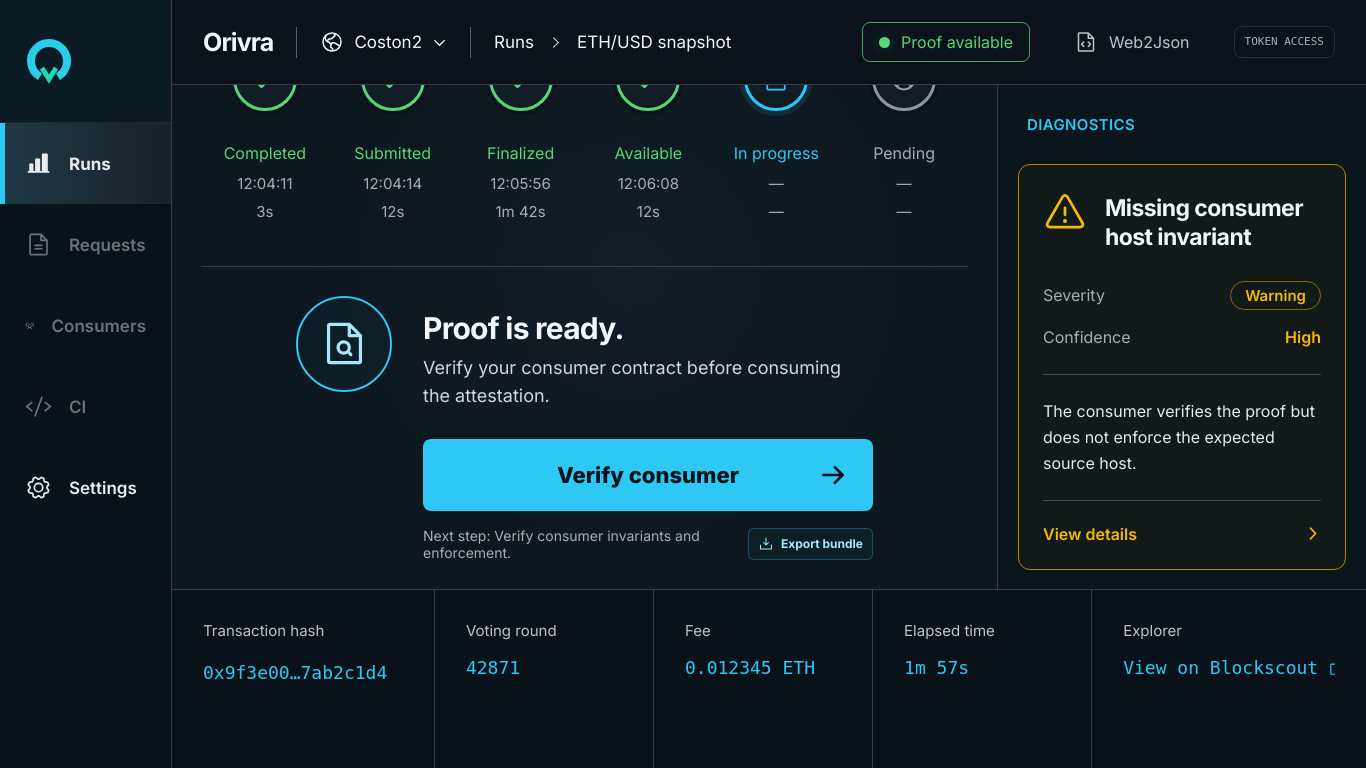
Test: Slice 007 Consumer Lab focus ownership after codegen › retains a focused interactive control inside the dialog
The image size is (1366, 768).
(page scrolled)
Click the button "Verify consumer".
click(648, 475)  # box [423,439,873,511]
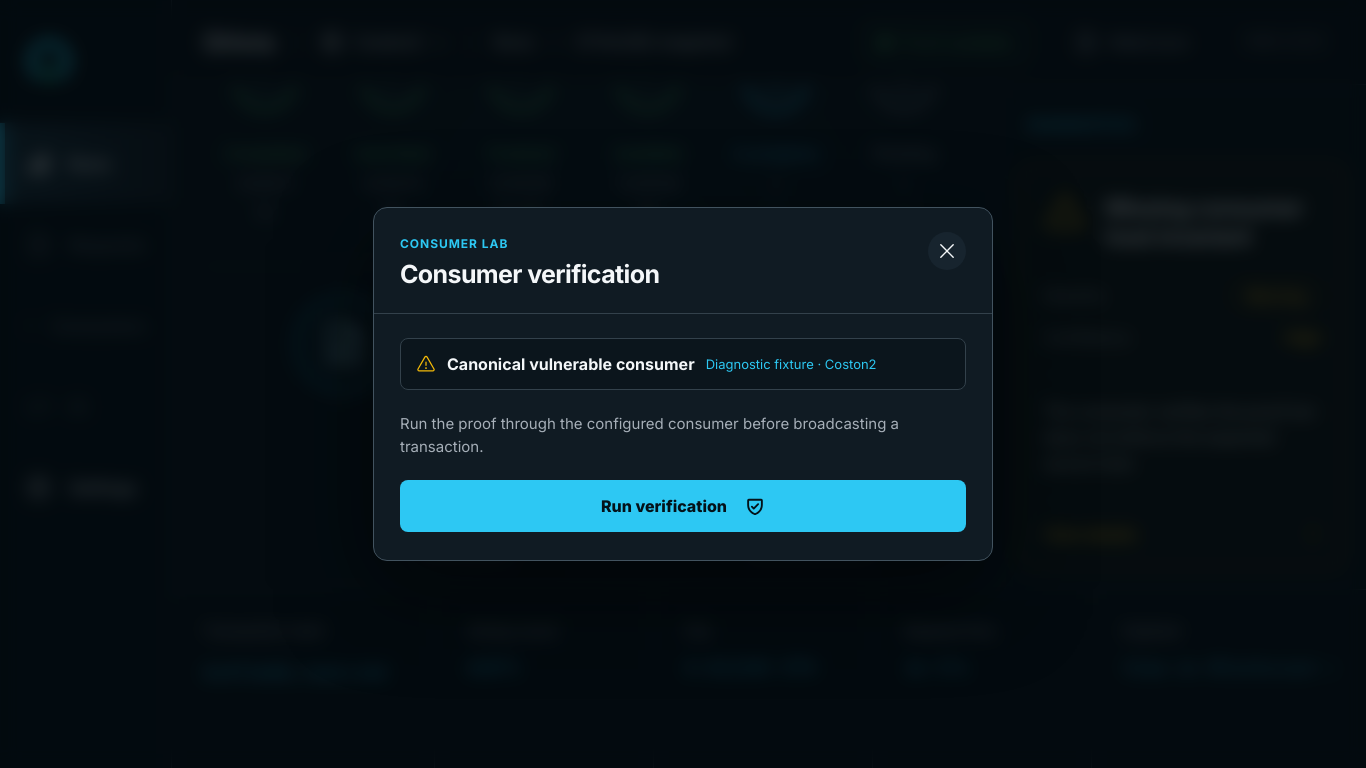
Click the button "Run verification".
click(683, 506)  # box [400,480,966,532]
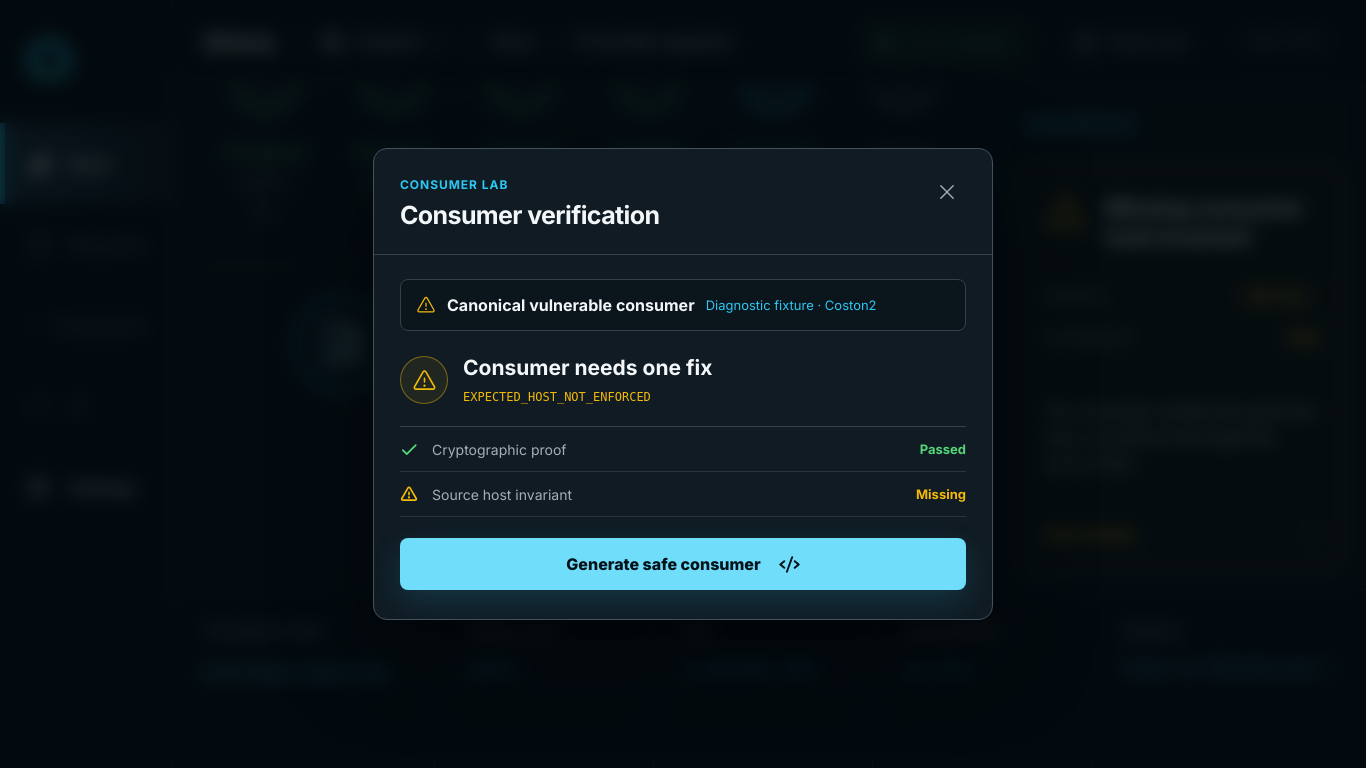
Click the button "Generate safe consumer".
click(683, 564)  # box [400,538,966,590]
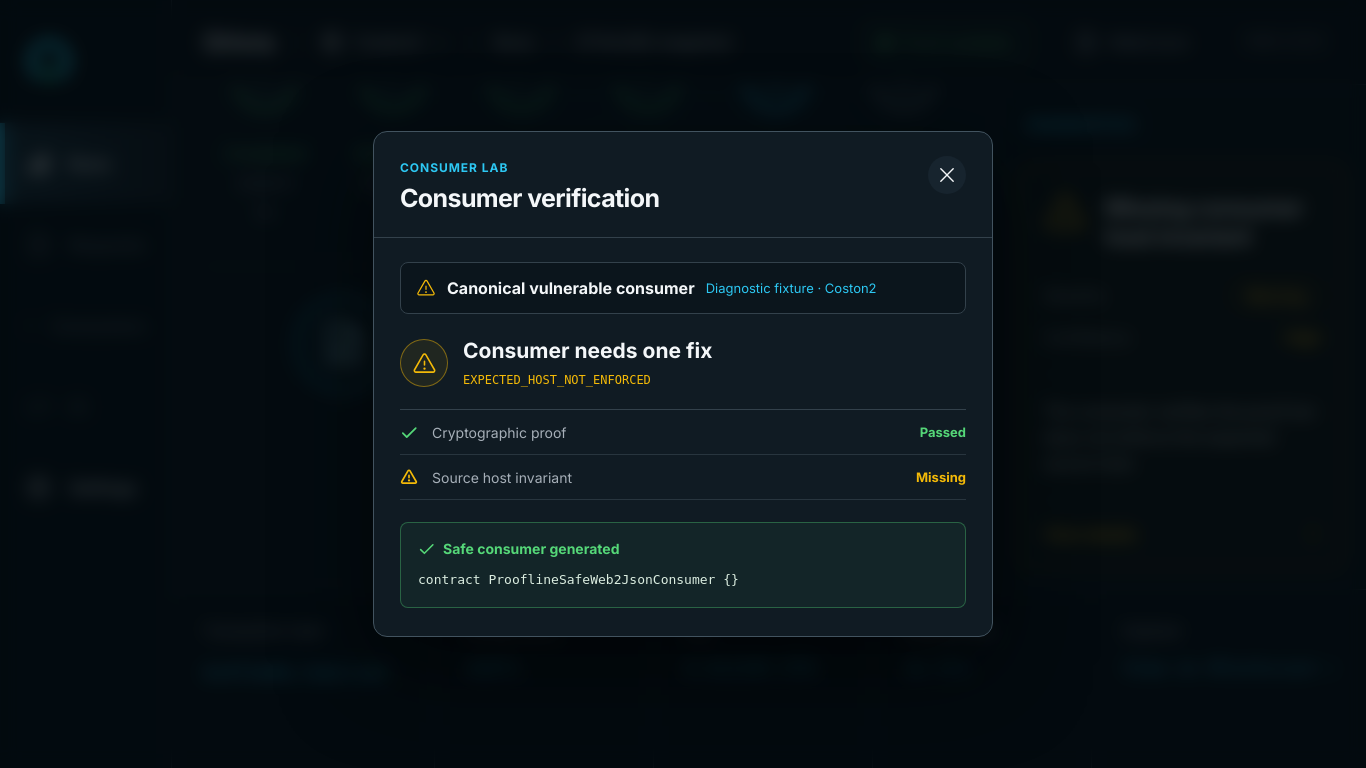
Result: the text "Safe consumer generated" is shown at [418,540,620,557]
